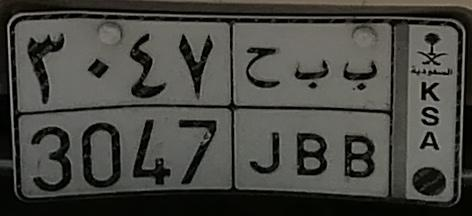0: (79, 56, 123, 190)
3: (26, 32, 74, 194)
4: (128, 31, 172, 188)
7: (177, 33, 219, 186)
B: (342, 59, 379, 179), (294, 59, 330, 178)
J: (244, 45, 281, 174)
